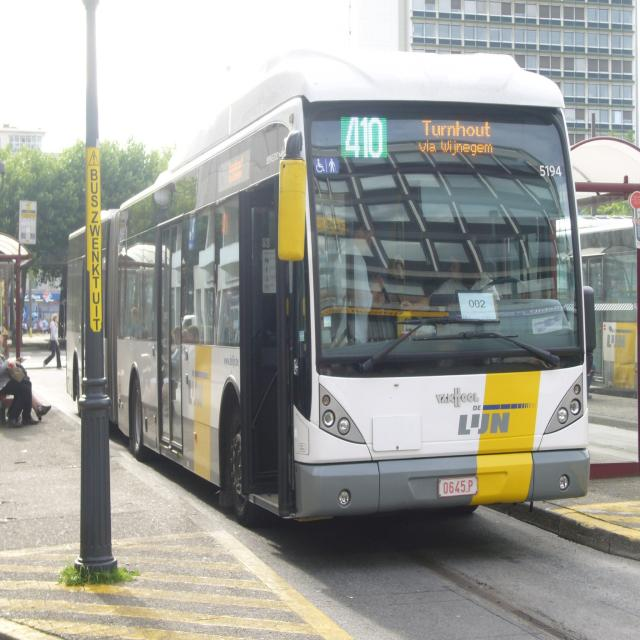bus-number: (342, 116, 387, 159)
